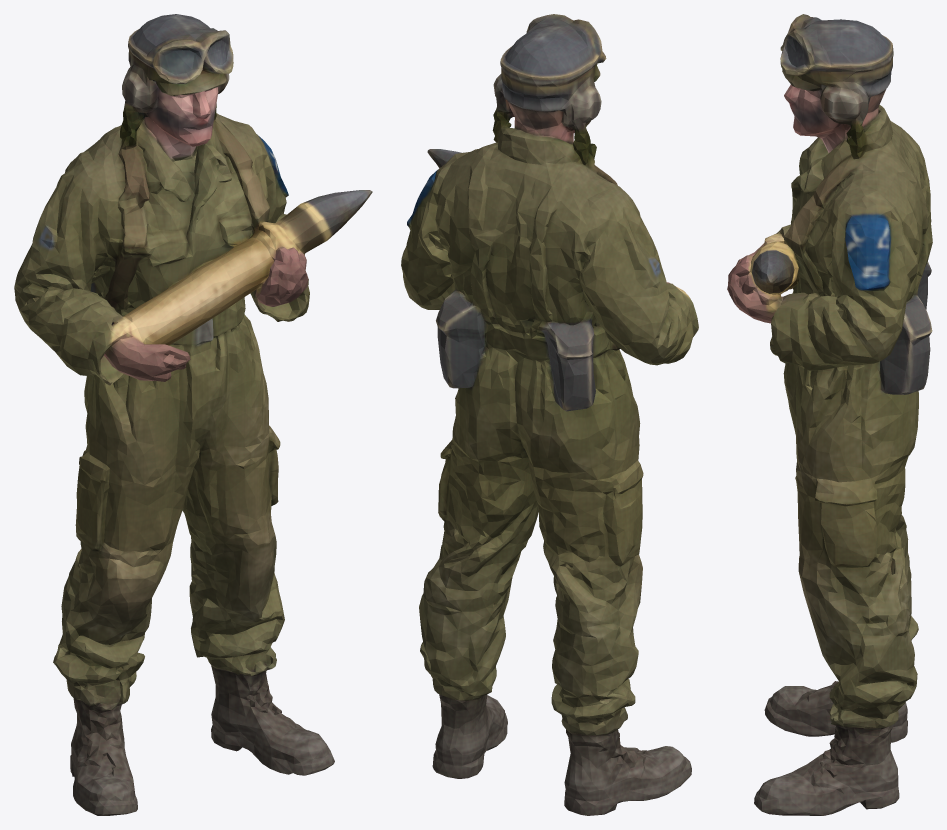
The model's file is crew_us_loader.obj.
3 renders of one model, left to right at view 1: azimuth 30°, elevation 25°; view 2: azimuth 150°, elevation 25°; view 3: azimuth 270°, elevation 25°, orthographic.
Visible parts, largest first — view 1: crew_us_loader; view 2: crew_us_loader; view 3: crew_us_loader.
Boxes of the visible parts, x1,y1,x2,y2 form: crew_us_loader: (14, 14, 372, 815); crew_us_loader: (401, 14, 698, 815); crew_us_loader: (727, 14, 932, 815).
Size of the model in its own units: 0.7485 by 1.8 by 0.4533.
Materials: 1 (1 with a texture image).
